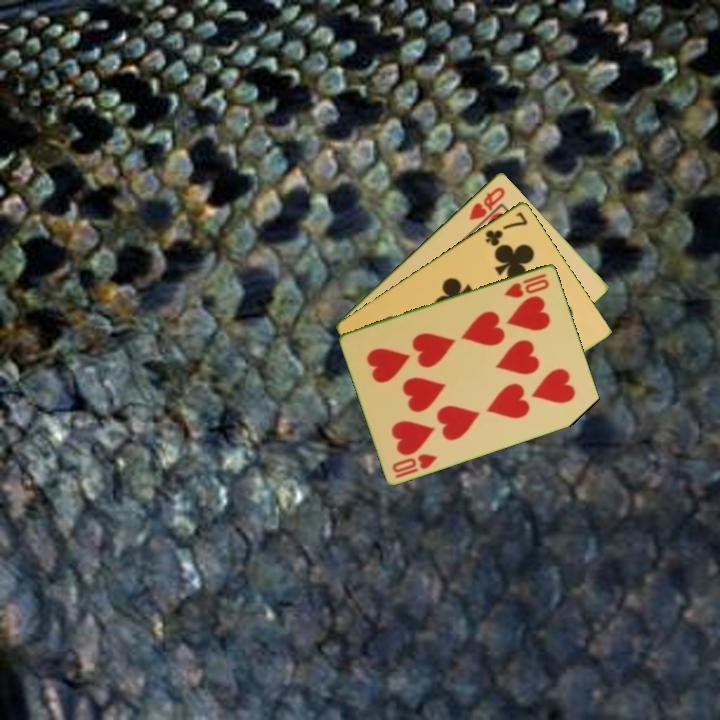10h: (501, 269, 552, 301), (388, 450, 440, 481)
7c: (481, 208, 531, 249)
Qh: (465, 183, 508, 223)
